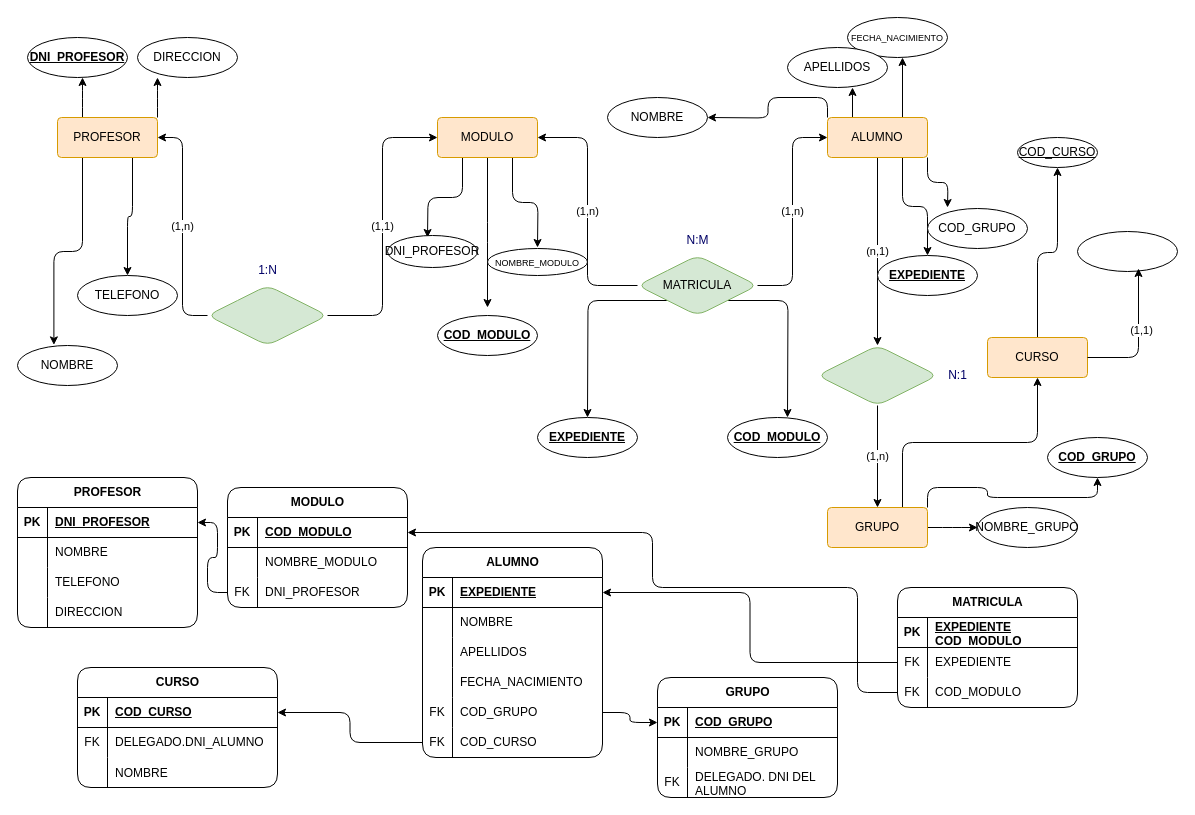
Some shapes in this 1195 by 815 pixel diagram are drawn without their labels. The shapes that lost their labels are listed below. From the top down, each one's centre as x and y in pixels, then its label:
the point at 1127,251: DELEGADO DNI_ALUMNO
the point at 267,315: IMPARTE
the point at 877,375: PERTENECE
